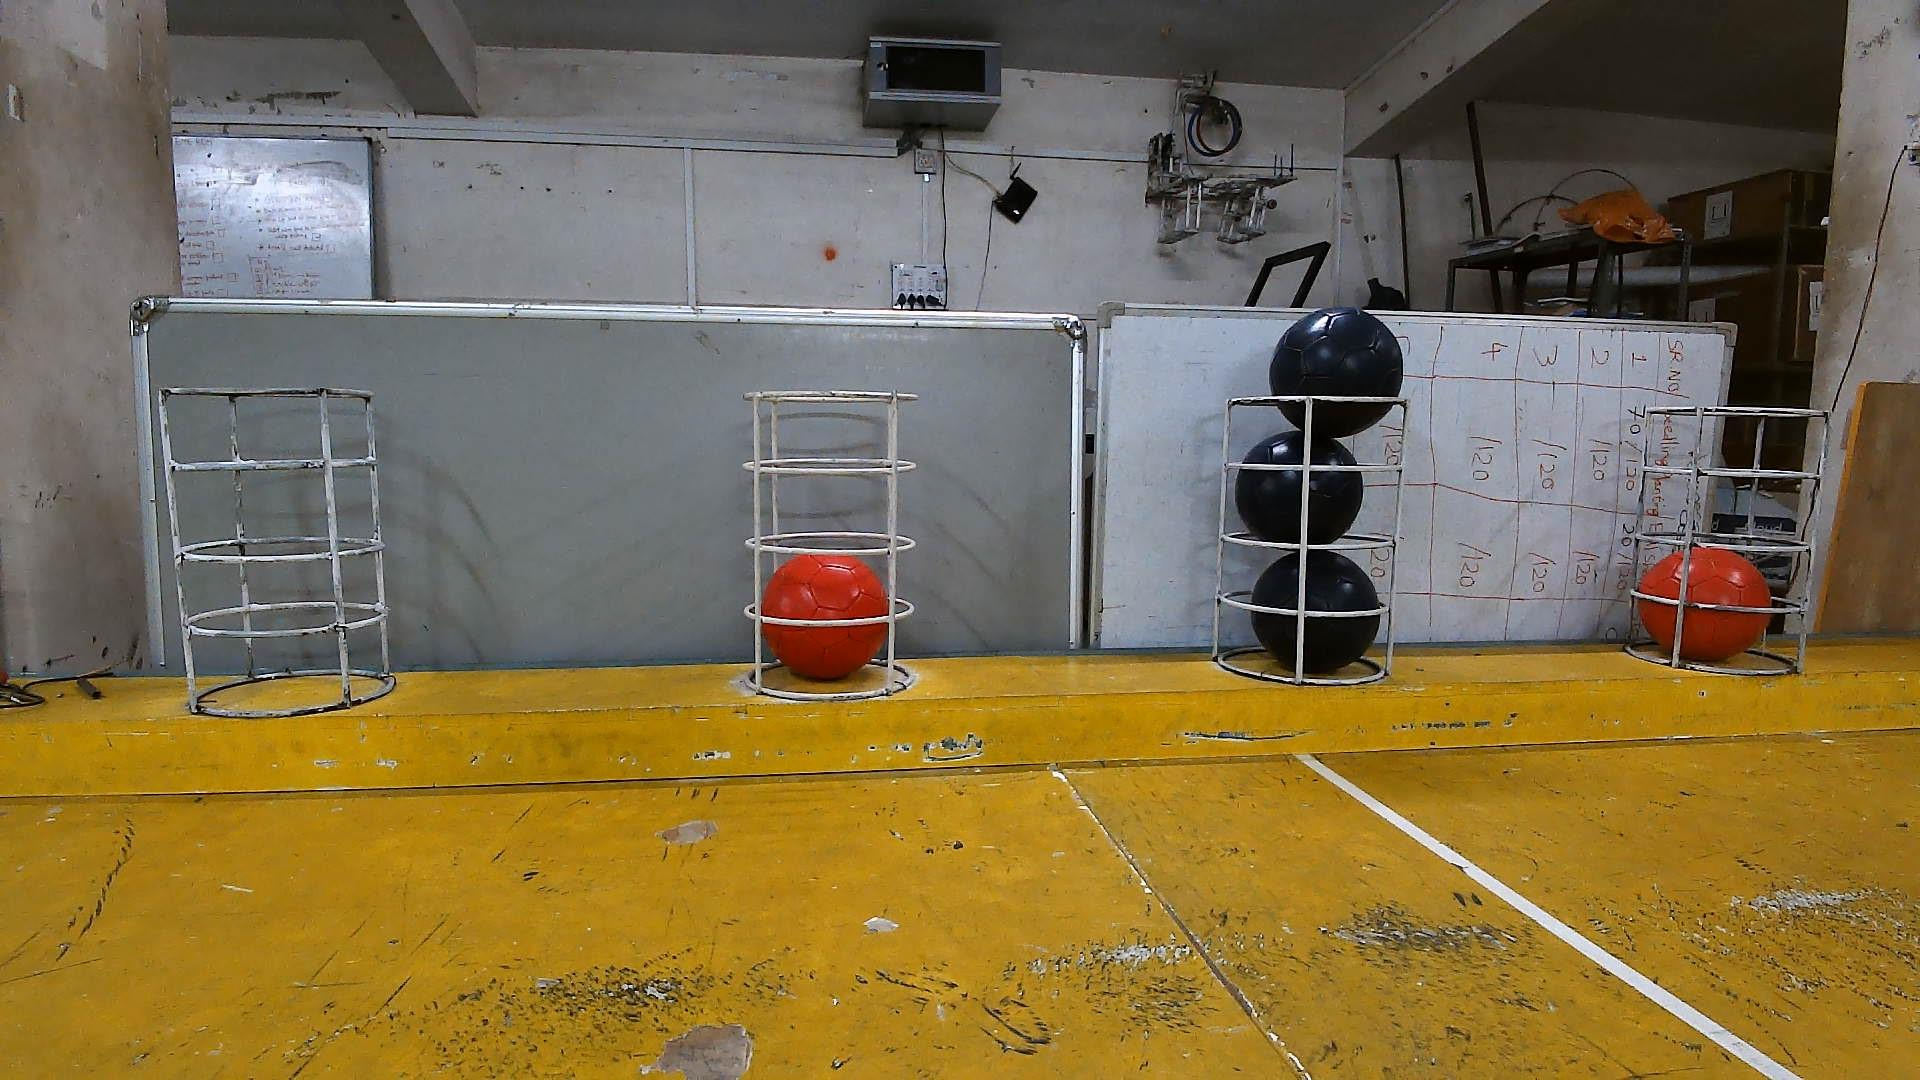dhoka: (1267, 307, 1403, 439), (1253, 547, 1383, 675), (1234, 431, 1365, 546)
laale: (761, 555, 889, 679), (1635, 547, 1770, 663)
